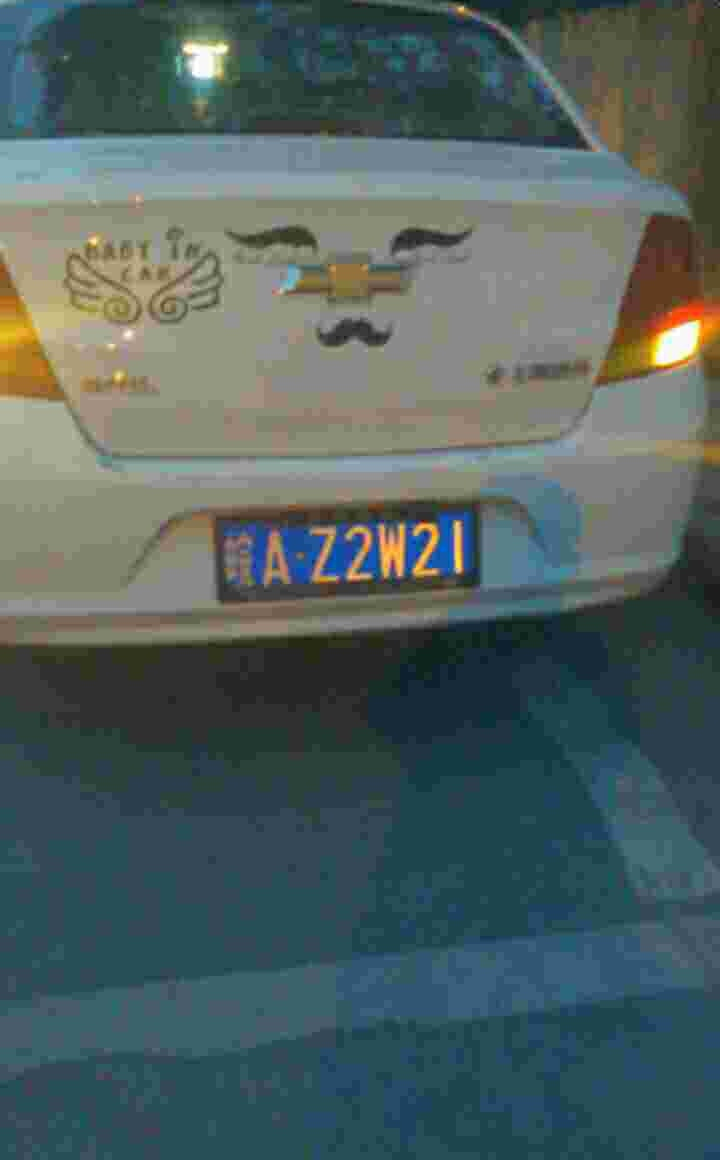plate: (220, 504, 490, 602)
